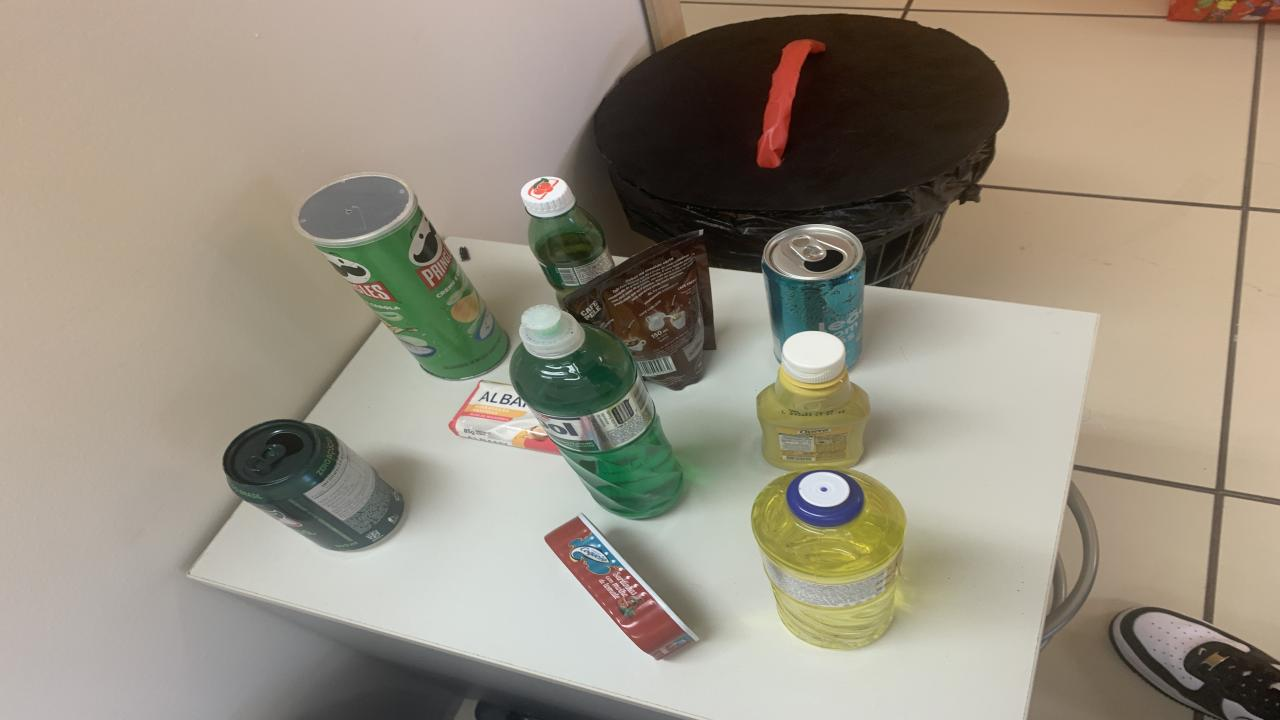Coffee-Pantry_Items: (565, 232, 715, 390)
Detergent-Cleanup_Items: (510, 306, 682, 519), (752, 469, 905, 649)
Guarana-Drinks: (522, 176, 612, 306)
Guarana_Can-Drinks: (222, 420, 405, 551)
Mustard-Pantry_Items: (758, 332, 870, 471)
Pringles-Snacks: (292, 172, 510, 379)
Soap-Cleanup_Items: (448, 381, 560, 454)
Tea-Drinks: (760, 225, 865, 368)
Tuna_Can-Pantry_Items: (545, 514, 698, 660)
